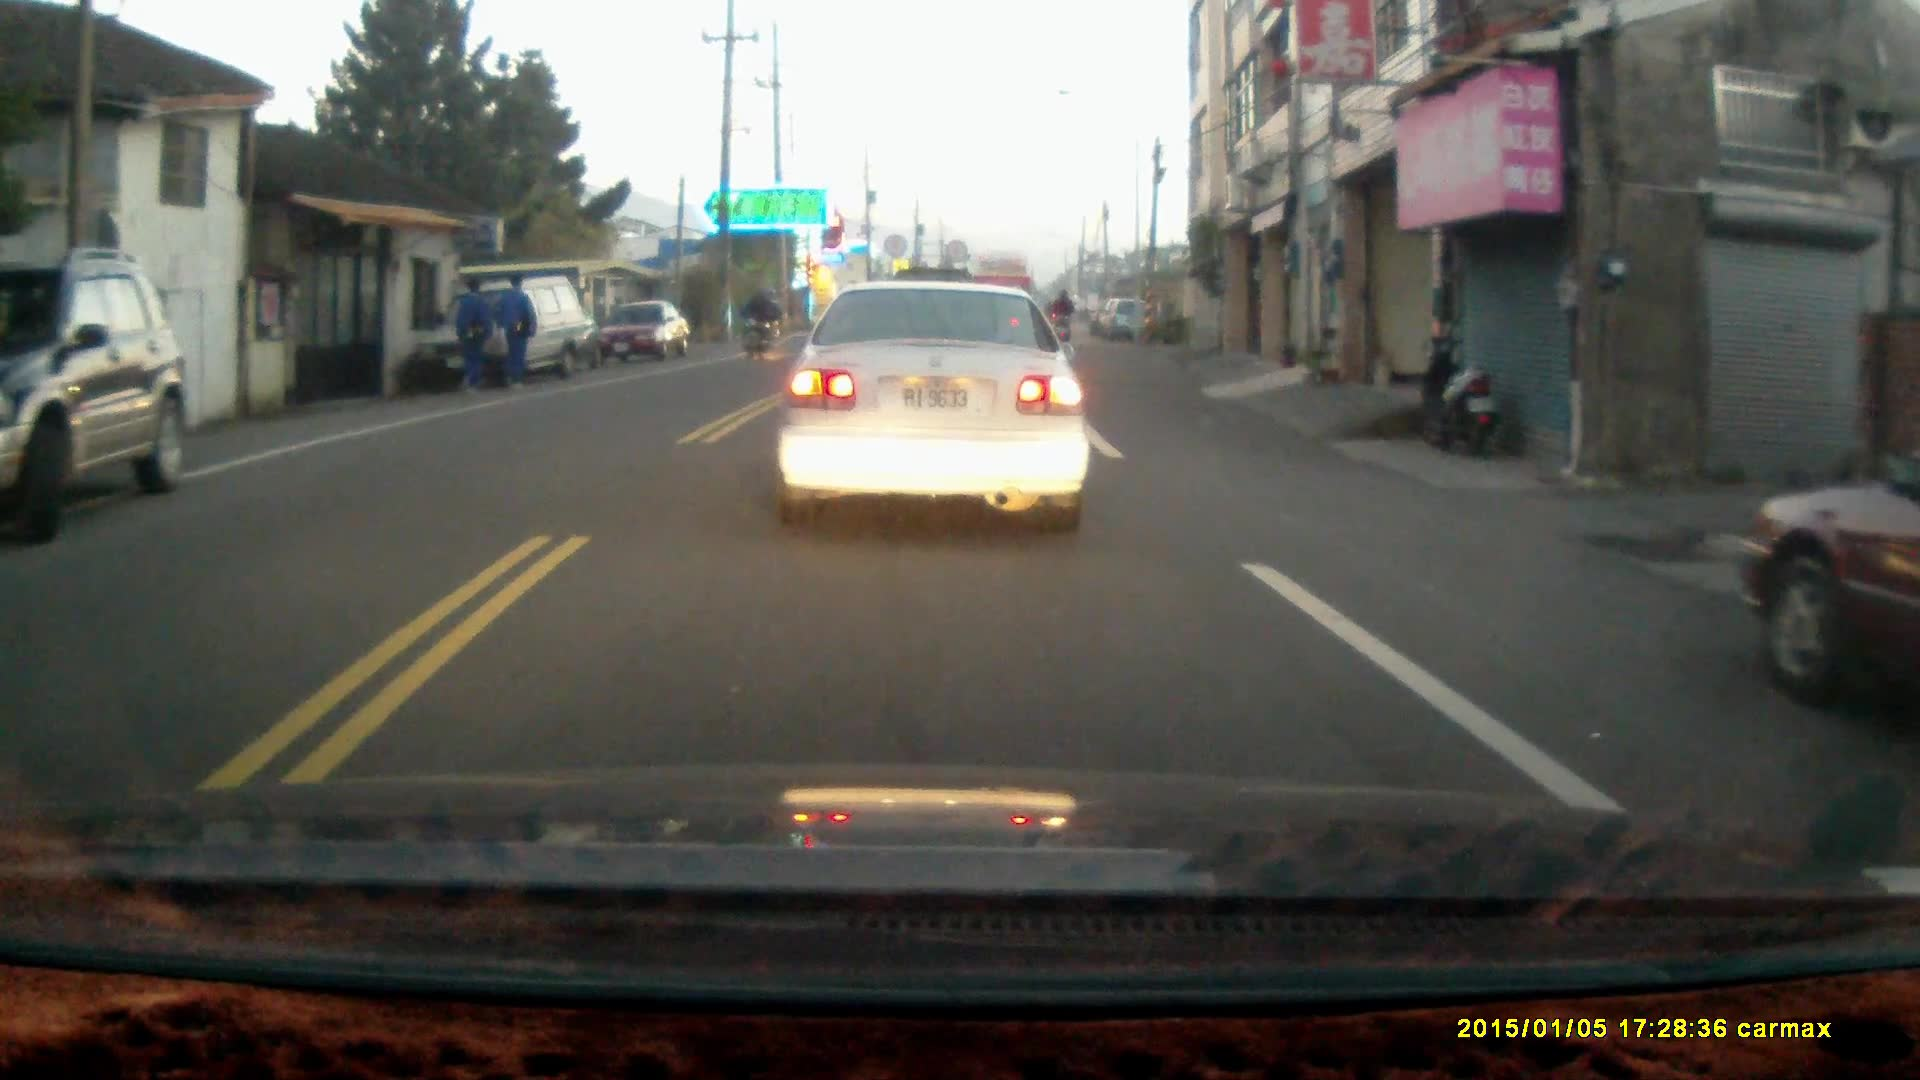pedestrian: (451, 281, 492, 396), (495, 272, 533, 393)
rider: (735, 290, 774, 360)
vehicle: (774, 277, 1097, 531), (1, 259, 189, 540), (1731, 458, 1920, 697), (440, 272, 602, 383), (591, 303, 695, 365)
